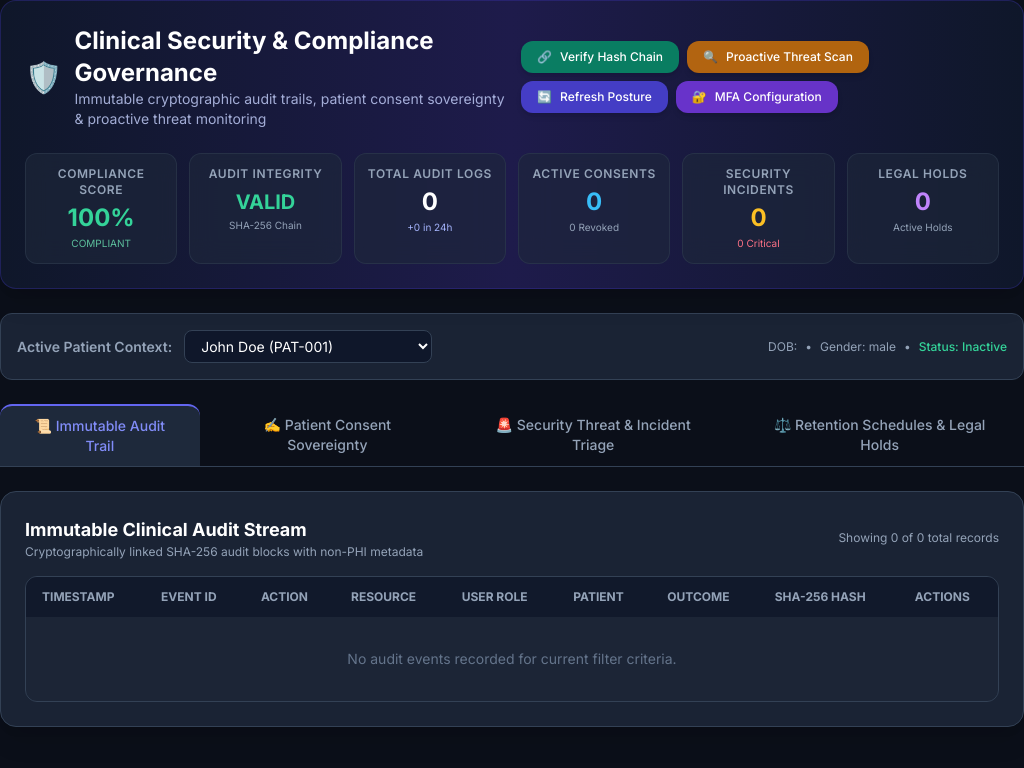
Test: Phase 9.0.23 Enterprise UI Orchestration › SecurityComplianceWorkspace opens MFA Configuration Modal
Click the button with test id "mfa-settings-btn": (757, 97) [676, 81, 838, 113]
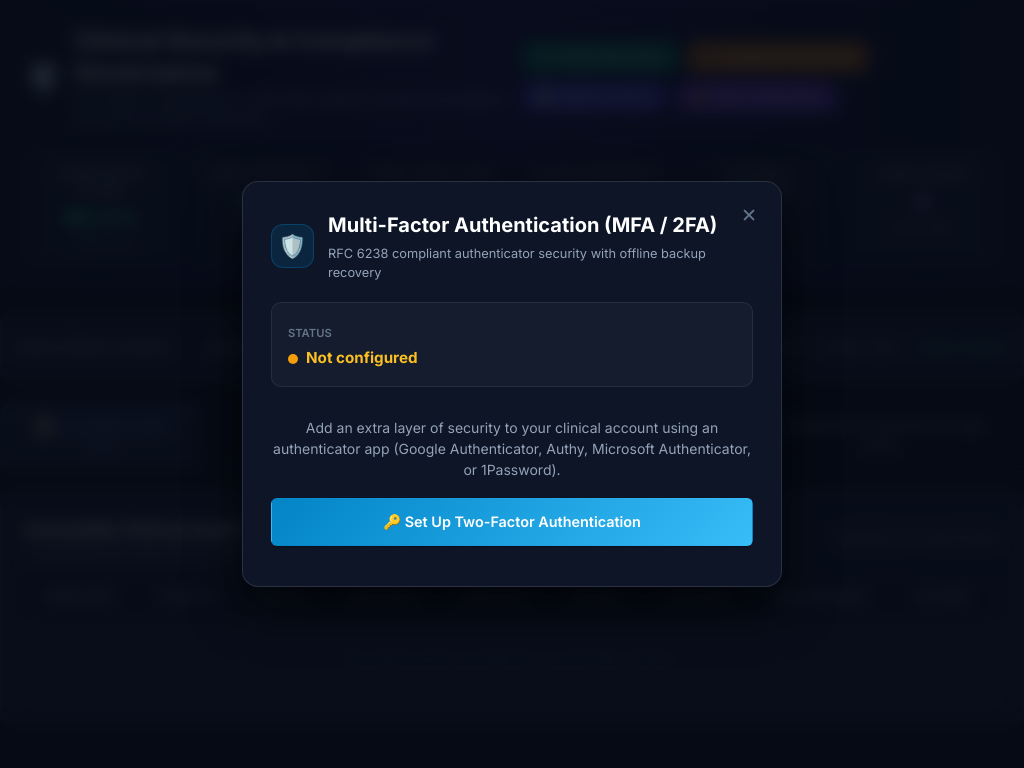
Expected: the heading "Multi-Factor Authentication (MFA / 2FA)" is shown, [328, 210, 753, 240]
